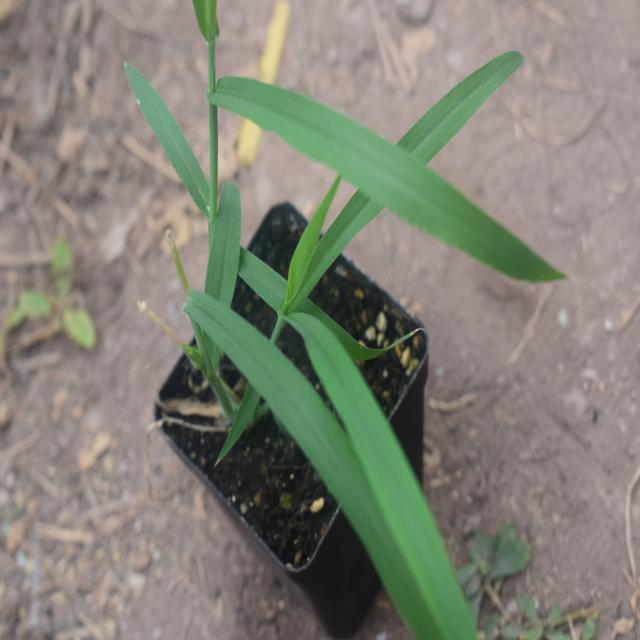crabgrass: (217, 16, 459, 608)
